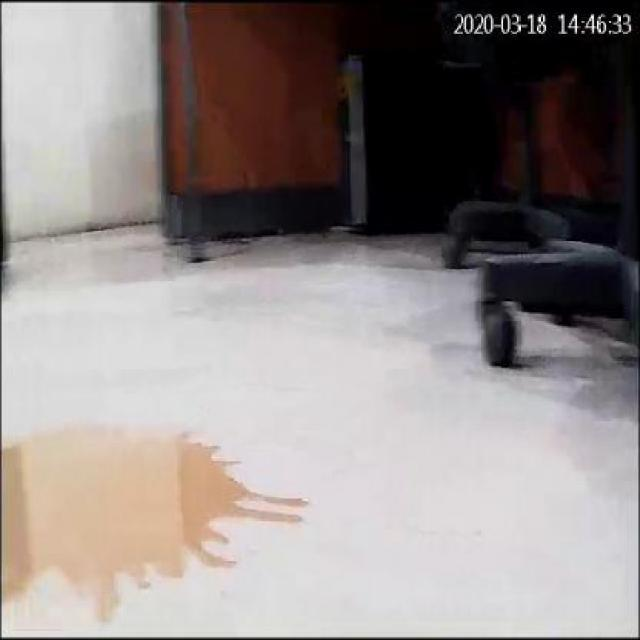spill: (2, 412, 310, 620)
